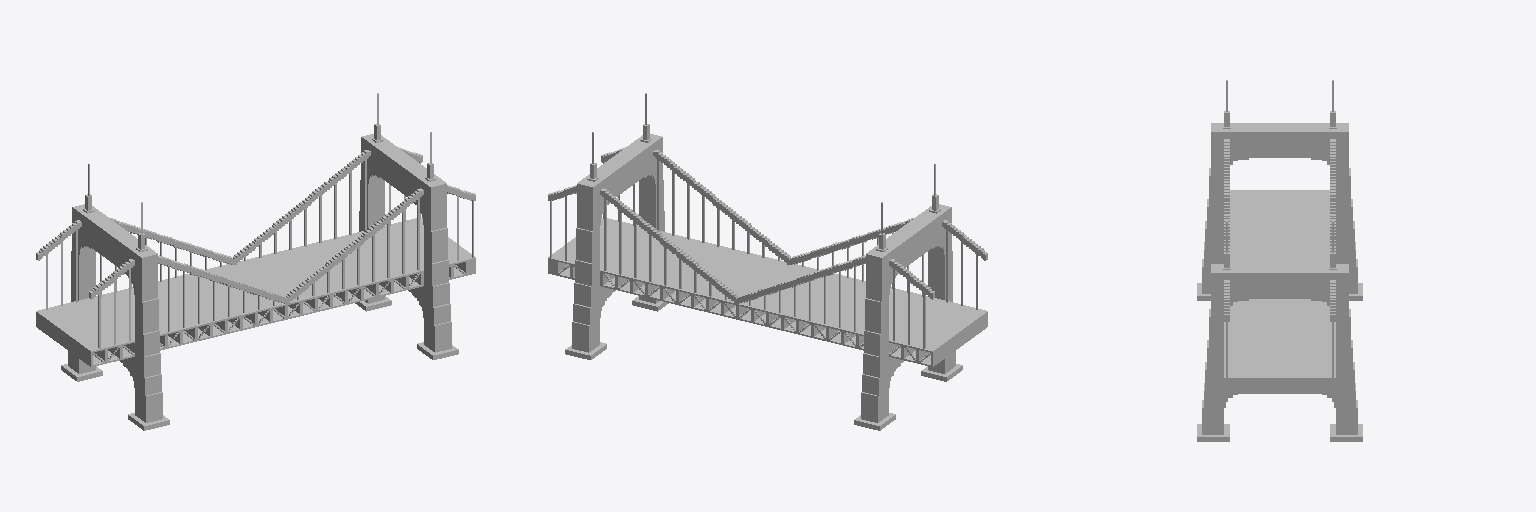
File: Bridge.obj
3 views of the same model, side by side, from view 1: azimuth 30°, elevation 25°; view 2: azimuth 150°, elevation 25°; view 3: azimuth 270°, elevation 25° (orthographic).
Parts seen in each view (by area): view 1: object 1; view 2: object 1; view 3: object 1.
Part boxes in pixels (x1,y1,x2,y2): object 1: (36, 93, 475, 430); object 1: (548, 93, 987, 430); object 1: (1197, 80, 1362, 441).
Bounding box in the file's own units: 25.6 × 13.6 × 9.6.